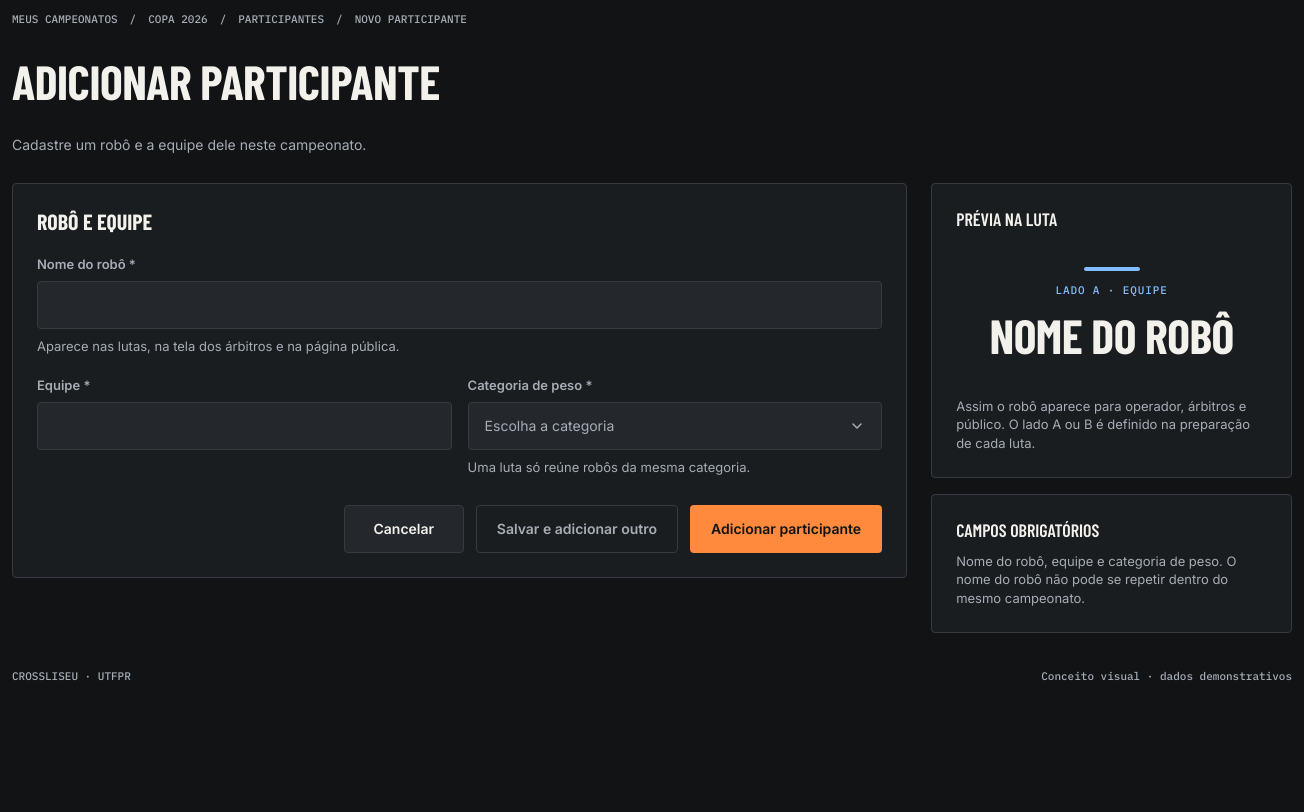
it: ParticipantFormView › maps a taken name to the name field
Type "Titã" into the field named "name". click: {"x": 460, "y": 305}
box: [37, 281, 882, 329]
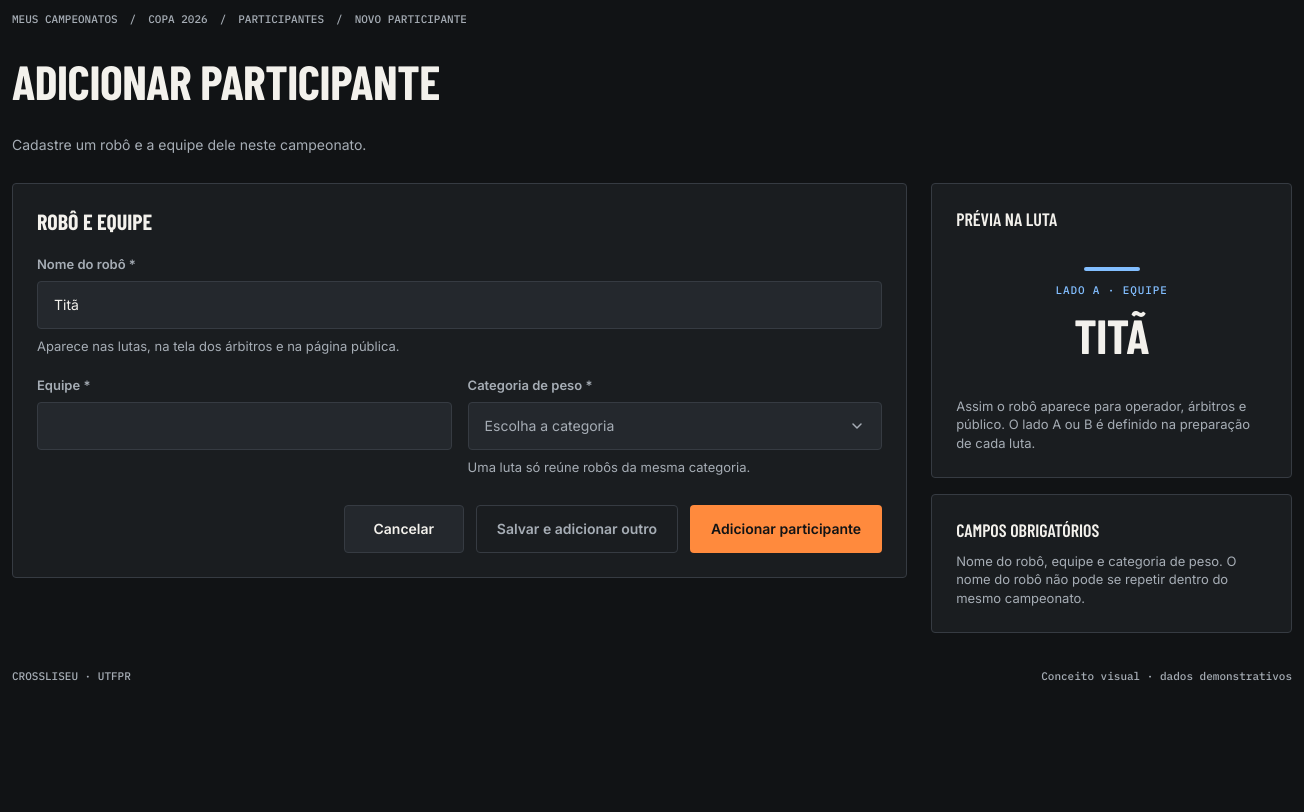
Type "Equipe Volt" into the field labelled "Equipe *". click: {"x": 244, "y": 426}
box: [37, 402, 452, 450]
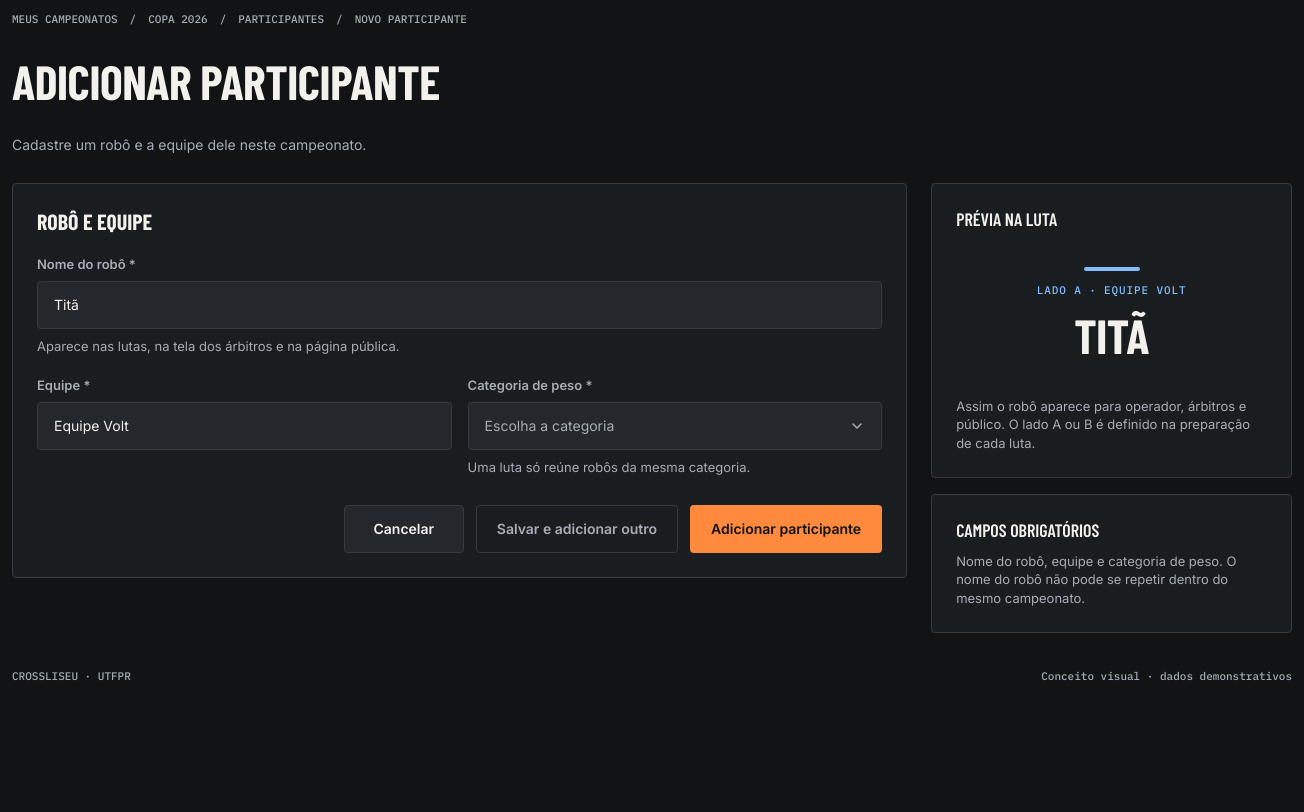
Click the dropdown labelled "Escolha a categoria". click: {"x": 675, "y": 426}
box: [468, 402, 882, 450]
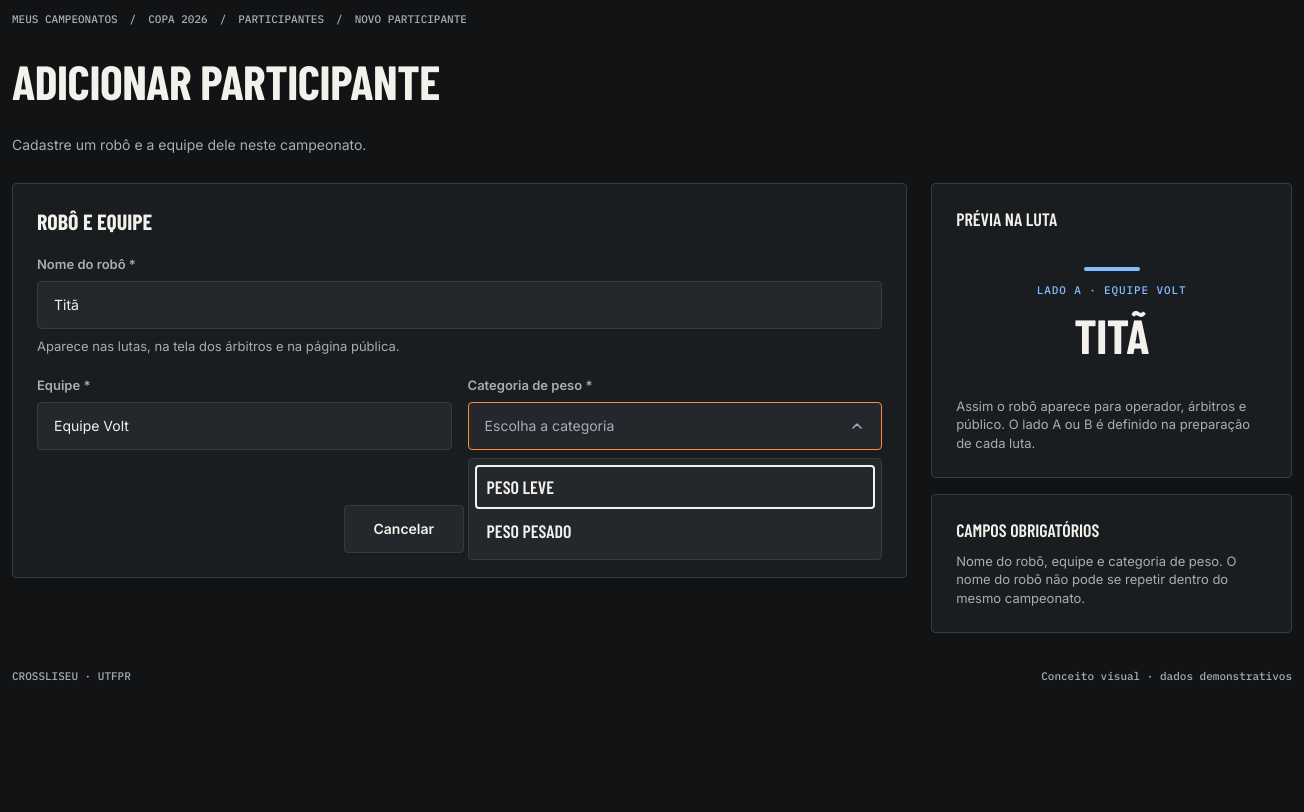
Click the option "Peso leve". click: {"x": 520, "y": 487}
box: [487, 476, 554, 498]
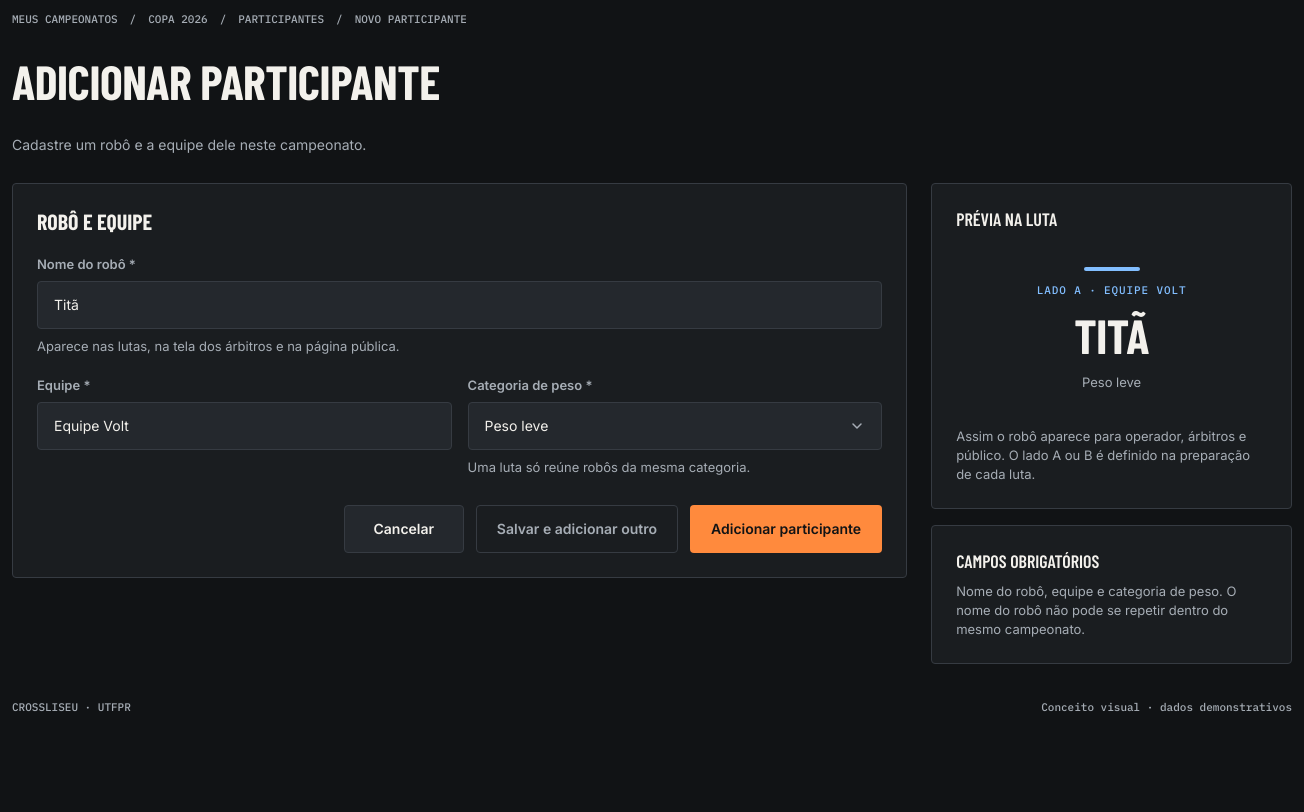
Submit the form, box [12, 183, 907, 578]
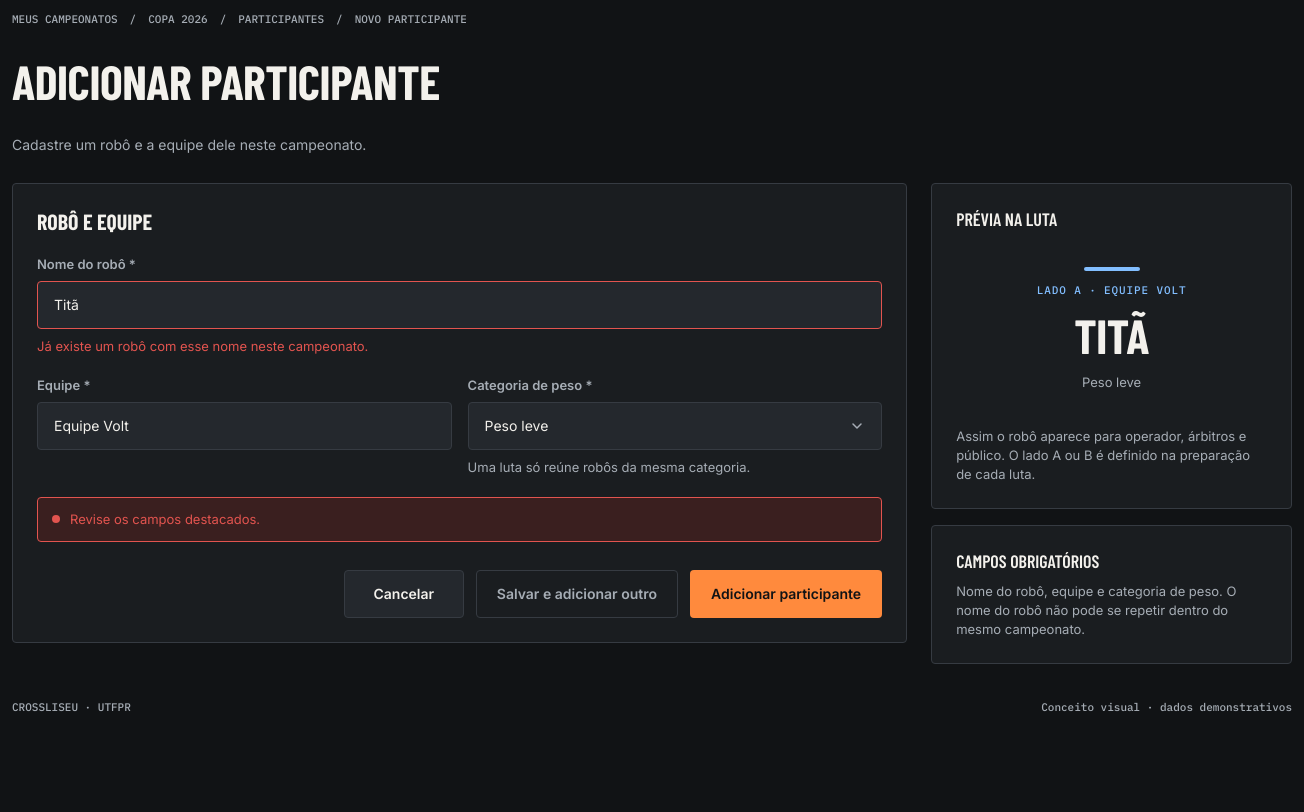
expect the message "Revise os campos destacados." is shown: met, box [37, 497, 882, 542]
expect the text "Já existe um robô com esse nome neste campeonato." is shown: met, box [37, 338, 368, 354]
